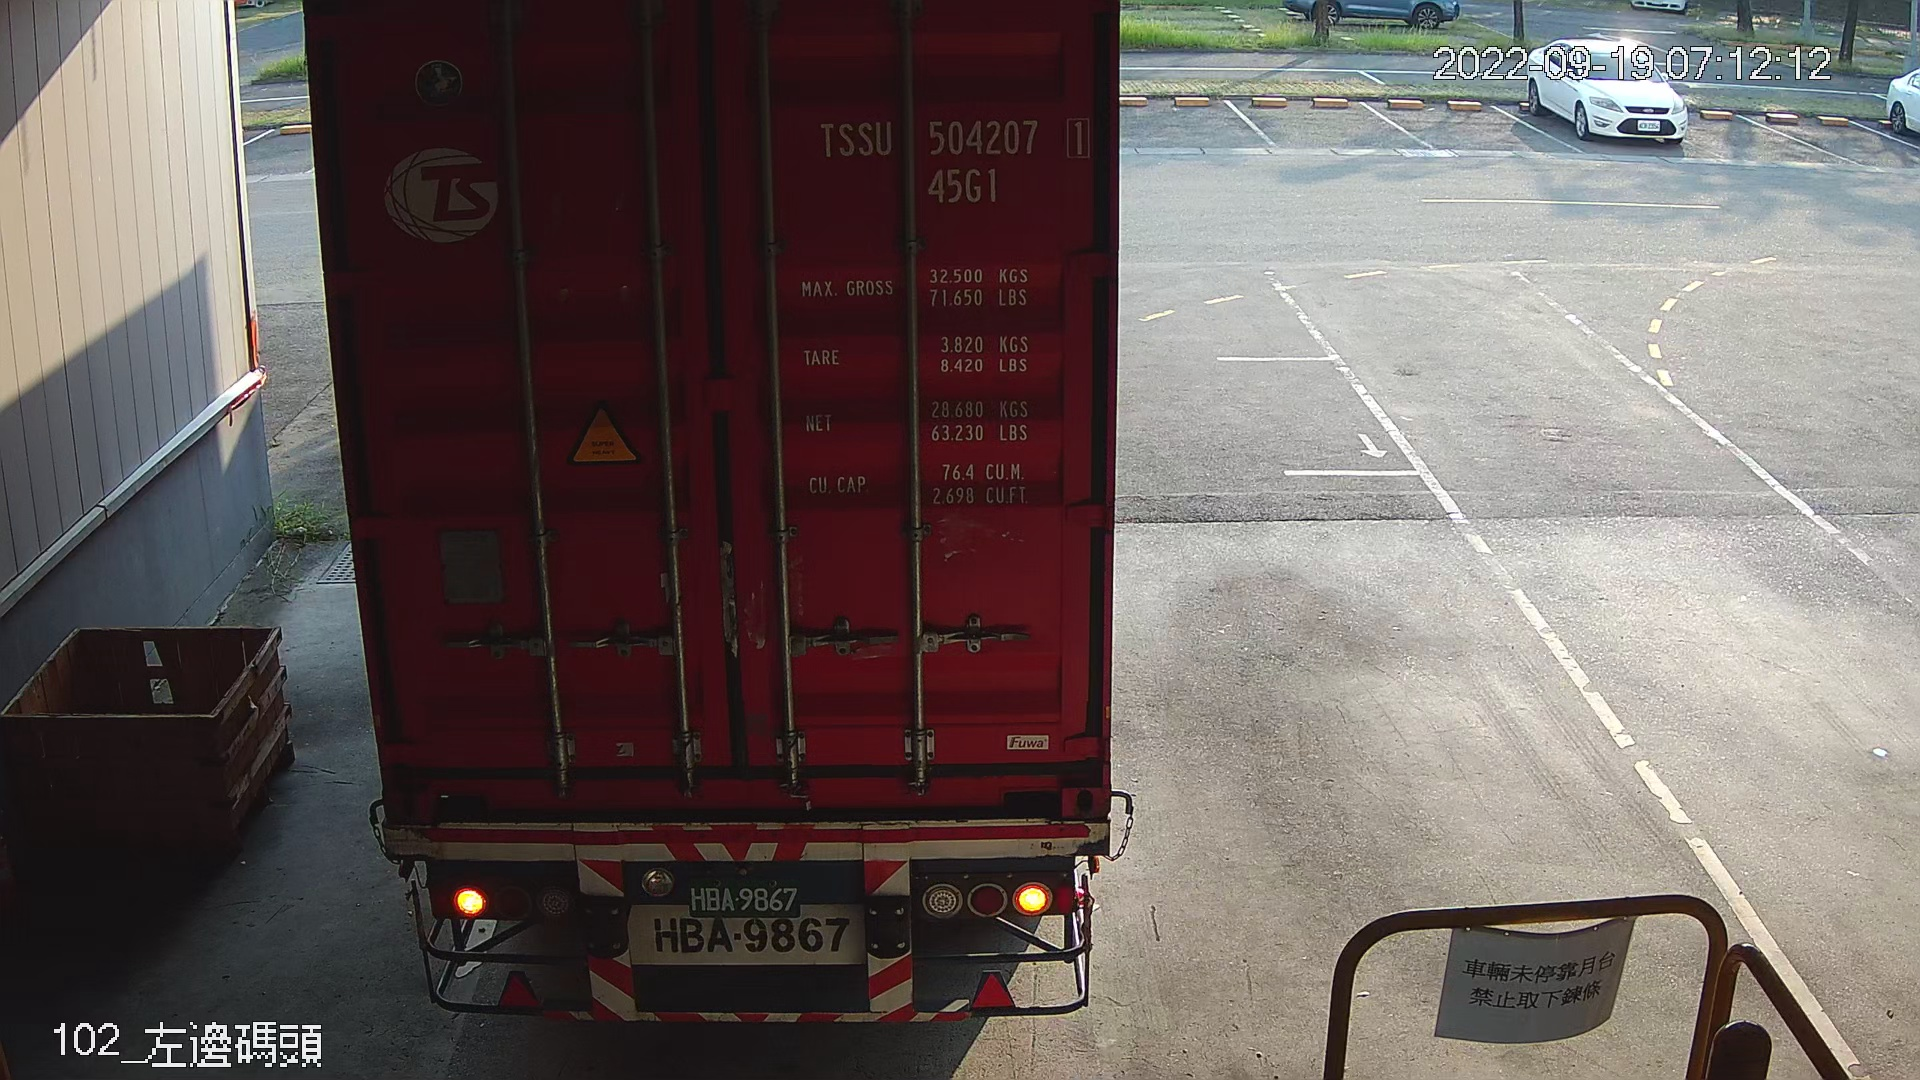container: (800, 102, 1110, 216)
